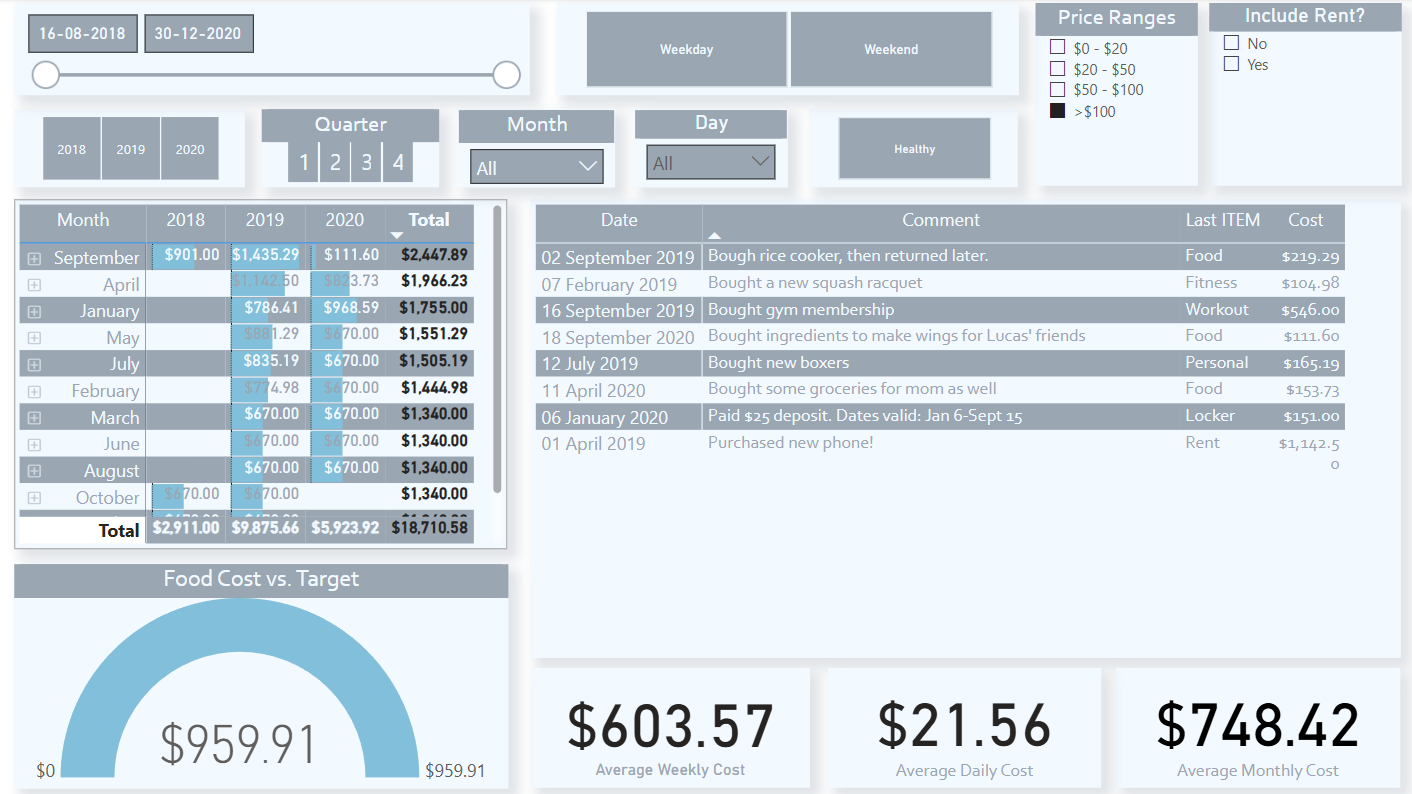

The page's visual inventory and layout, read from the dashboard file:
{"tool":"powerbi","page":{"name":"Monthly/Weekly/Daily Info","canvas":[1280,720],"ordinal":1},"visuals":[{"type":"pivotTable","fields":{"Columns":["Calendar_Lookup.Year"],"Values":["Finance_Data.COST"],"Rows":["Calendar_Lookup.Month_Name","Calendar_Lookup.Day_Name"]},"box":[15,181.7,445,315],"z":0},{"type":"pivotTable","fields":{"Rows":["Finance_Data.DATE"],"Values":["Finance_Data.COMMENTS","Finance_Data.ITEM","Finance_Data.COST"]},"box":[480,181.7,785,413.3],"z":1000},{"type":"slicer","title":"Include Rent?","fields":{"Values":["Item_Lookup.Item(NoRent)"]},"box":[1091.7,5,173.3,165],"z":2000},{"type":"slicer","title":"Price Ranges","fields":{"Values":["Finance_Data.Price_Ranges"]},"box":[935,5,146.7,165],"z":3000},{"type":"slicer","fields":{"Values":["Finance_Data.Sick(Boolean)"]},"box":[731.7,100,188.3,70],"z":4000},{"type":"slicer","fields":{"Values":["Calendar_Lookup.Weekday"]},"box":[503.3,5,416.7,83.3],"z":5000},{"type":"slicer","fields":{"Values":["Calendar_Lookup.Year"]},"box":[15,100,208.3,70],"z":6000},{"type":"slicer","title":"Quarter","fields":{"Values":["Calendar_Lookup.Quarter"]},"box":[238.3,100,160,70],"z":7000},{"type":"slicer","title":"Month","fields":{"Values":["Calendar_Lookup.Month_Name"]},"box":[415,100,141.7,70],"z":8000},{"type":"slicer","title":"Day","fields":{"Values":["Calendar_Lookup.Day_Name"]},"box":[573.3,100,138.3,70],"z":9000},{"type":"slicer","fields":{"Values":["Calendar_Lookup.Date"]},"box":[15,5,465,83.3],"z":10000},{"type":"card","fields":{"Values":["Finance_Data.COST average per Month_Name"]},"box":[1008.1,604.7,257,108.1],"z":12000},{"type":"card","fields":{"Values":["Finance_Data.COST average per End_of_Week"]},"box":[480.2,604.7,252.3,108.1],"z":13000},{"type":"card","fields":{"Values":["Finance_Data.Measure"]},"box":[748.8,604.7,246.5,108.1],"z":14000},{"type":"gauge","title":"Food Cost vs. Target","fields":{"Y":["Finance_Data.Total_Costs_Food"],"TargetValue":["Finance_Data.Target_Monthly_Food_Cost"],"MaxValue":["Finance_Data.Total_Costs_Food"]},"box":[15.1,510.5,445.3,202.3],"z":15000}]}

Visuals, with their boxes in screenshot pixels (x1, y1, x2, y2), scaled from the page's 1280x720 canvas onto the 1412x794 screenshot:
pivotTable - Calendar_Lookup.Year x Finance_Data.COST: {"x1": 17, "y1": 200, "x2": 507, "y2": 548}
pivotTable - Finance_Data.DATE x Finance_Data.COMMENTS: {"x1": 530, "y1": 200, "x2": 1395, "y2": 656}
"Include Rent?" slicer: {"x1": 1204, "y1": 6, "x2": 1395, "y2": 187}
"Price Ranges" slicer: {"x1": 1031, "y1": 6, "x2": 1193, "y2": 187}
slicer - Finance_Data.Sick(Boolean): {"x1": 807, "y1": 110, "x2": 1015, "y2": 187}
slicer - Calendar_Lookup.Weekday: {"x1": 555, "y1": 6, "x2": 1015, "y2": 97}
slicer - Calendar_Lookup.Year: {"x1": 17, "y1": 110, "x2": 246, "y2": 187}
"Quarter" slicer: {"x1": 263, "y1": 110, "x2": 439, "y2": 187}
"Month" slicer: {"x1": 458, "y1": 110, "x2": 614, "y2": 187}
"Day" slicer: {"x1": 632, "y1": 110, "x2": 785, "y2": 187}
slicer - Calendar_Lookup.Date: {"x1": 17, "y1": 6, "x2": 530, "y2": 97}
card - Finance_Data.COST average per Month_Name: {"x1": 1112, "y1": 667, "x2": 1396, "y2": 786}
card - Finance_Data.COST average per End_of_Week: {"x1": 530, "y1": 667, "x2": 808, "y2": 786}
card - Finance_Data.Measure: {"x1": 826, "y1": 667, "x2": 1098, "y2": 786}
"Food Cost vs. Target" gauge: {"x1": 17, "y1": 563, "x2": 508, "y2": 786}
